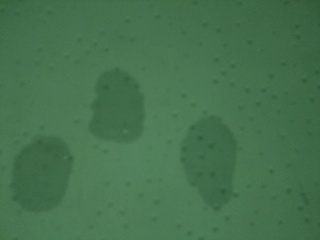Water_detected: (84, 73, 137, 134), (20, 145, 61, 203), (183, 127, 222, 186)
